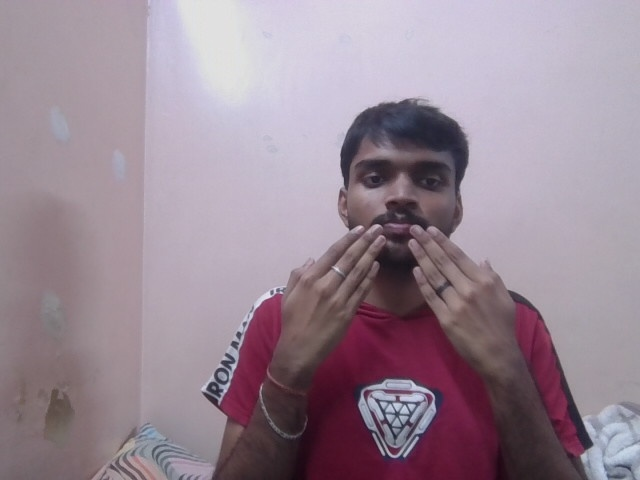Thank You: (279, 222, 531, 370)
